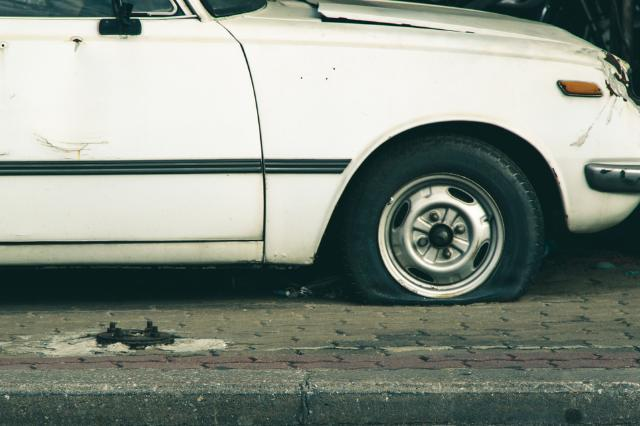Bonnet: (575, 42, 640, 107)
Door: (23, 118, 137, 189)
